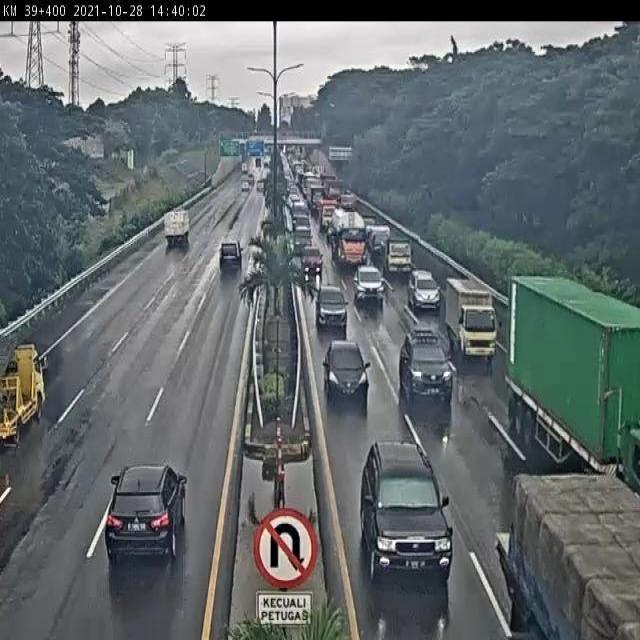big truck: (509, 275, 640, 480), (328, 205, 369, 271)
car: (353, 442, 446, 582), (103, 464, 188, 563), (400, 332, 455, 404), (323, 342, 372, 402), (315, 285, 350, 331), (407, 267, 439, 309), (351, 262, 384, 302), (216, 238, 243, 270), (298, 239, 322, 269)
small truck: (446, 281, 500, 364), (157, 208, 189, 251), (383, 238, 414, 278)
